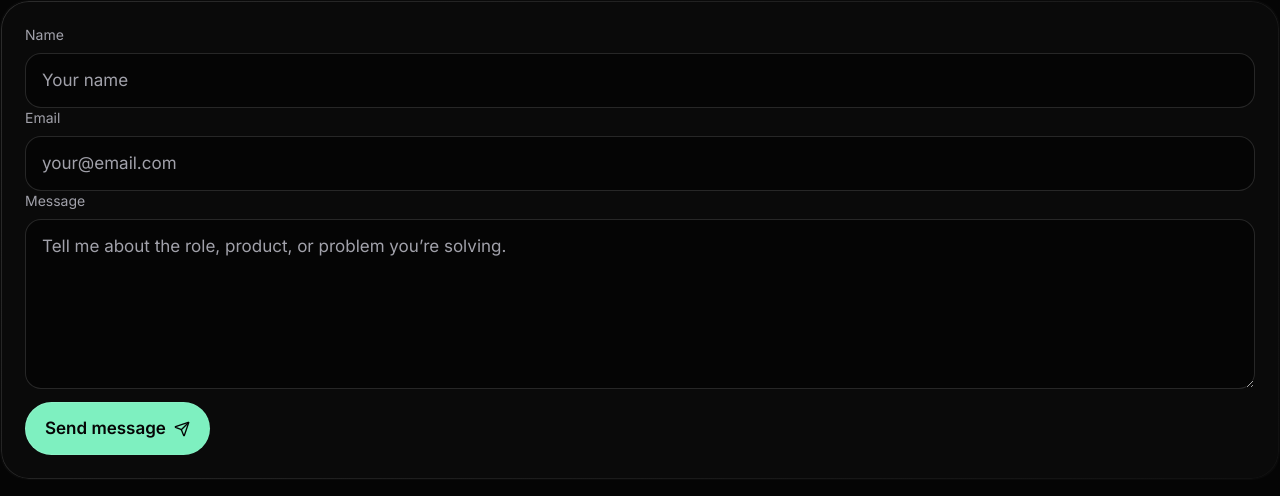
Test: Contact › posts form values to the contact API and confirms success
Type "Manav Shaji" into the field labelled "Name". click: (640, 80)
box: [25, 53, 1255, 108]
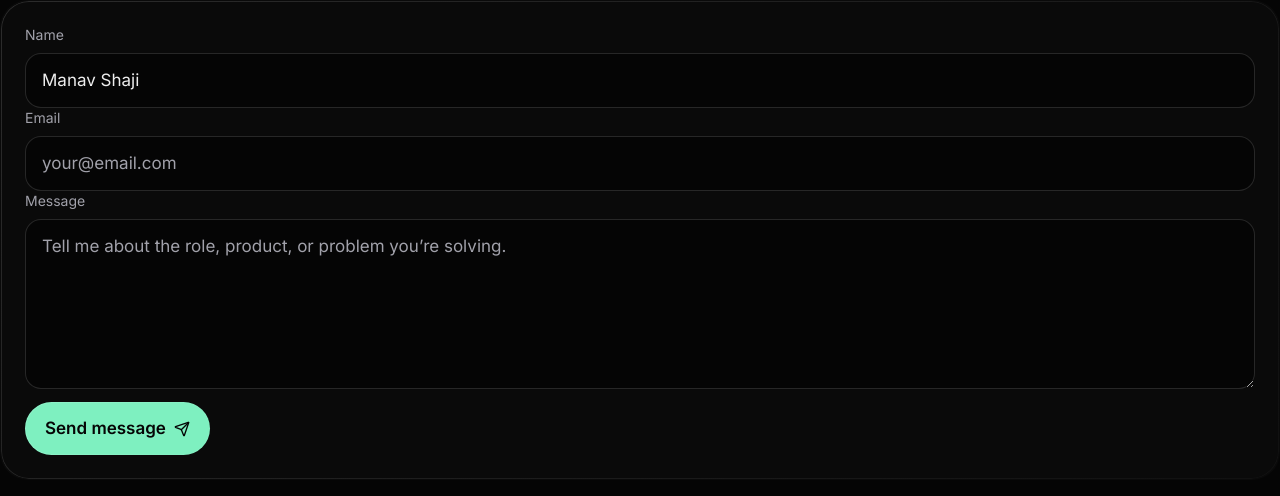
Type "manav@example.com" into the field labelled "Email". click: (640, 163)
box: [25, 136, 1255, 191]
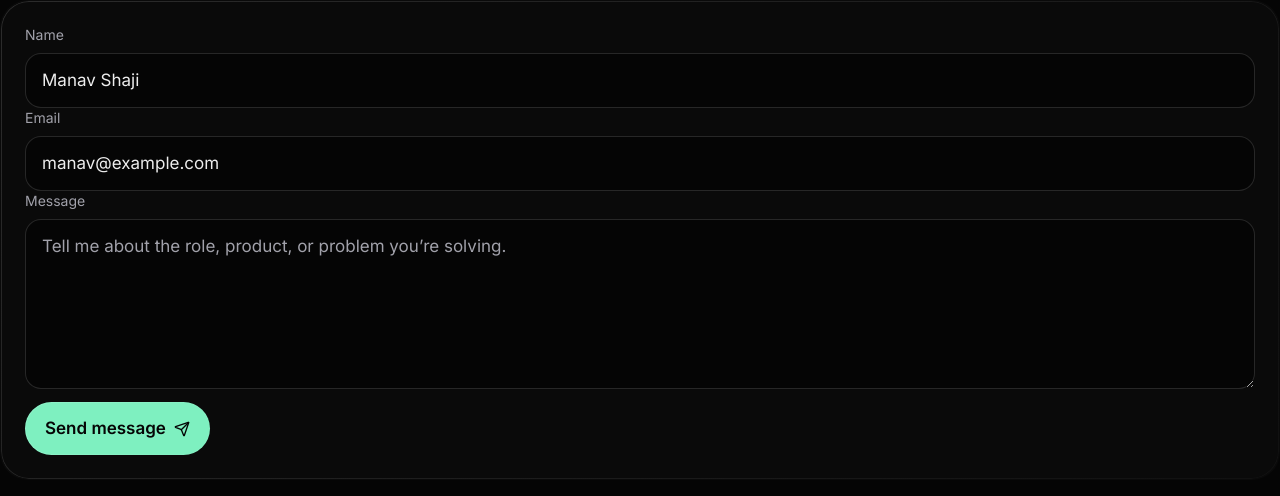
Type "I would like to discuss a role." into the text box labelled "Message". click: (640, 304)
box: [25, 219, 1255, 389]
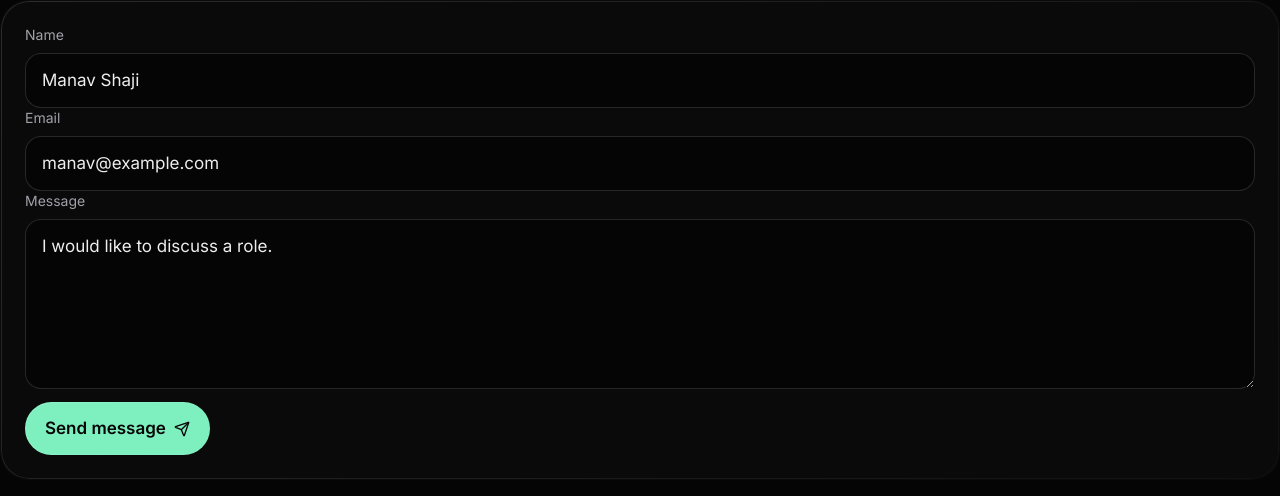
Click the button "Send message". click: (117, 429)
box: [25, 402, 210, 455]
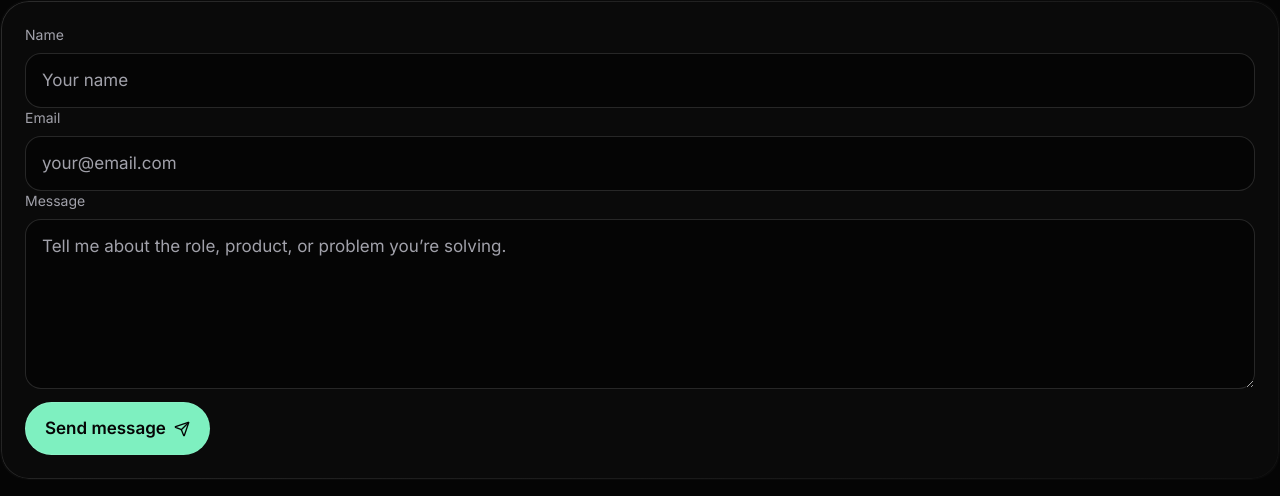
Expected: the field labelled "Name" is empty, [25, 53, 1255, 108]
Expected: the field labelled "Email" is empty, [25, 136, 1255, 191]
Expected: the text box labelled "Message" is empty, [25, 219, 1255, 389]
